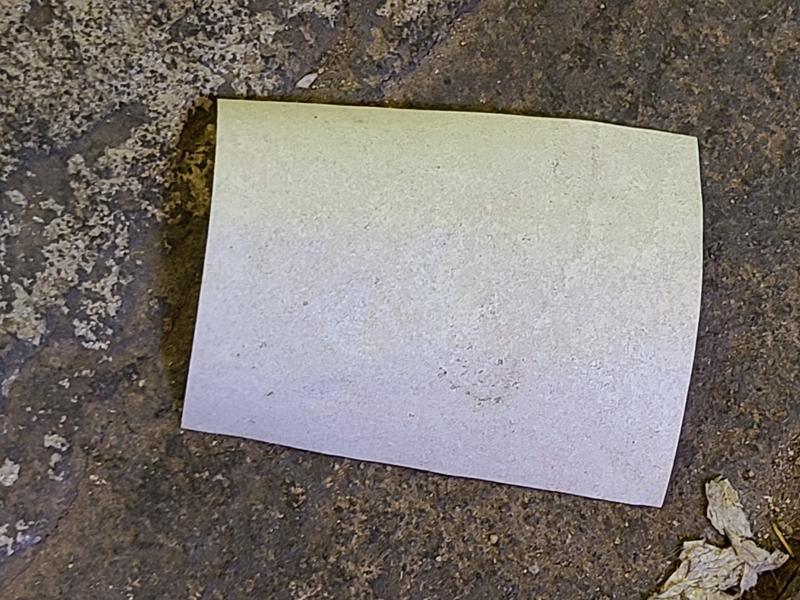papel: (178, 98, 705, 510)
